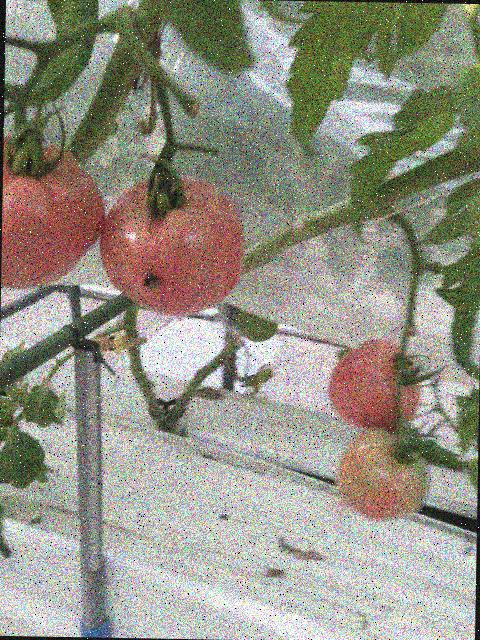b_fully_ripened: (98, 171, 246, 318), (1, 133, 106, 290), (327, 337, 420, 431)
b_half_ripened: (336, 426, 429, 523)
